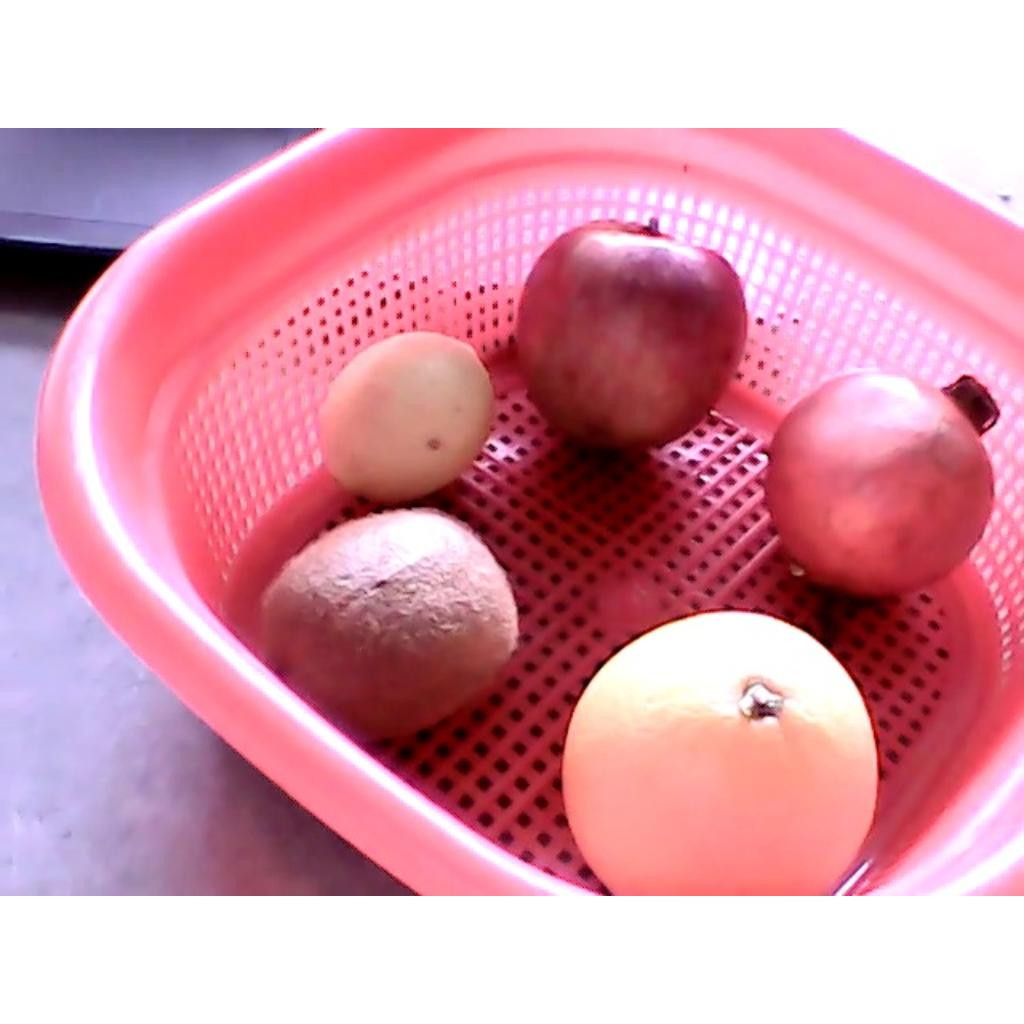apple: (516, 217, 750, 451)
kiwi: (258, 509, 519, 743)
lemon: (319, 332, 496, 501)
orange: (561, 610, 877, 894)
pomegranate: (764, 373, 1001, 598)
